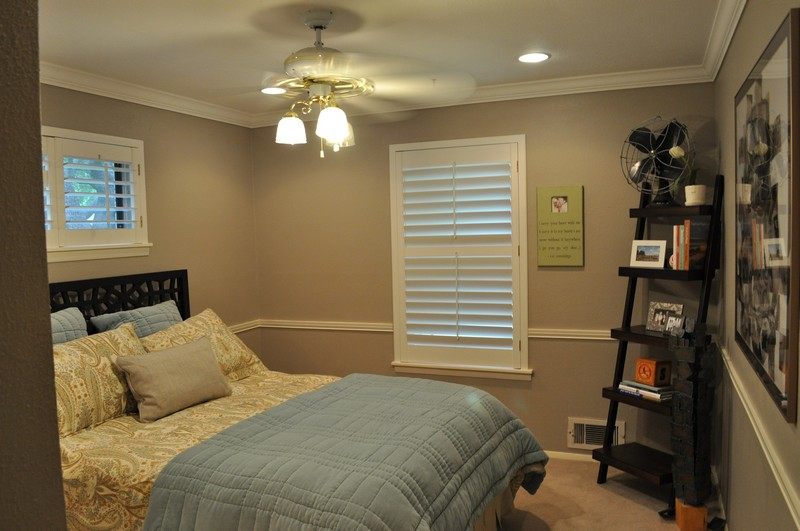bed: (52, 265, 548, 528)
